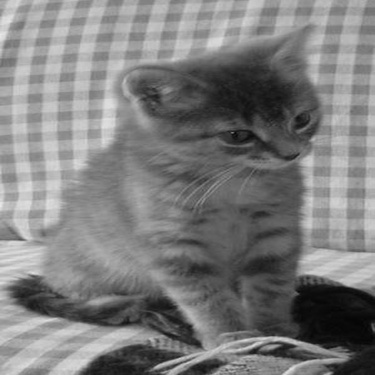cat: (3, 11, 330, 350)
